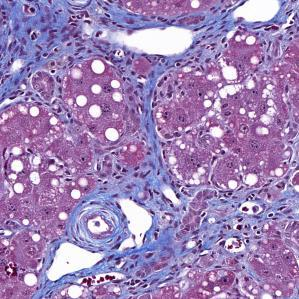fibrosis: (157, 183, 268, 265), (0, 0, 114, 68), (82, 172, 169, 256), (183, 18, 246, 59)
